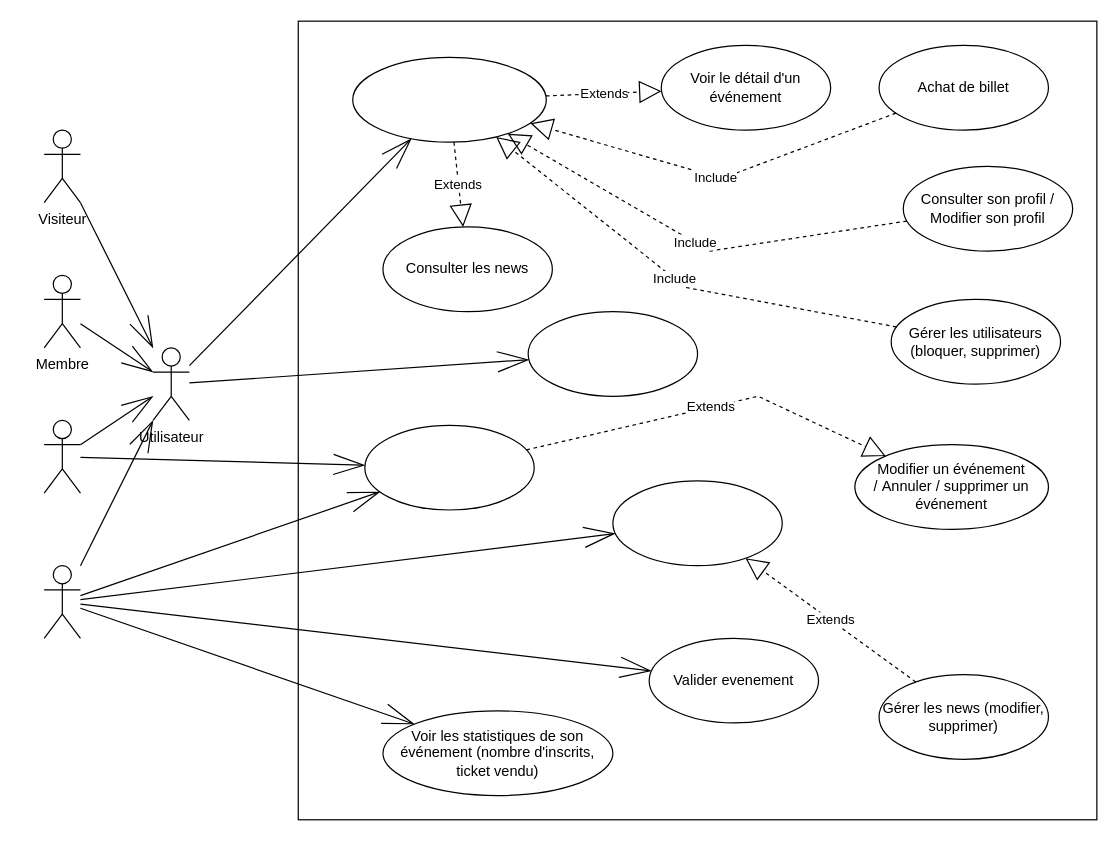
Image size: 1118x841. Some labels were removed from this diagram. The shapes that lost their labels are listed below. From the top down, each one's centre as x and y in pixels, then its label:
[449,99]: SeConnecter/S'inscrire / créer un compte
[612,353]: Consulter la liste des événements
[61,456]: Organisateur
[449,467]: Creer un evenement
[697,523]: Publie news
[61,601]: Admin
